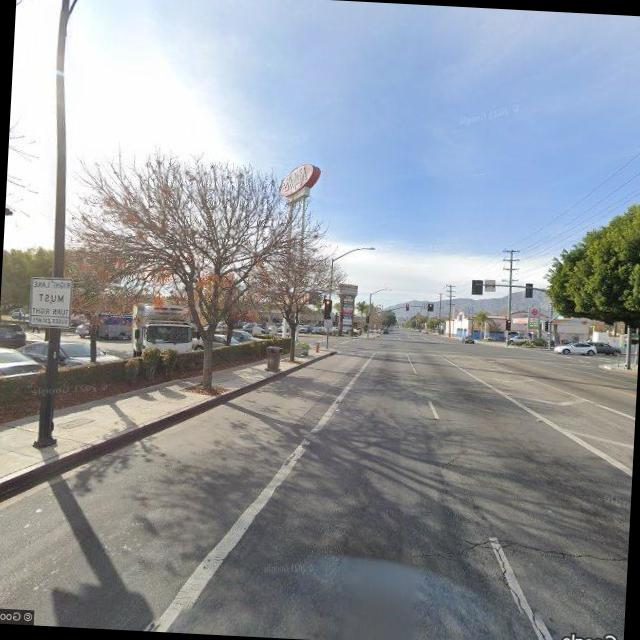crack: (480, 531, 554, 640), (490, 534, 629, 566)
